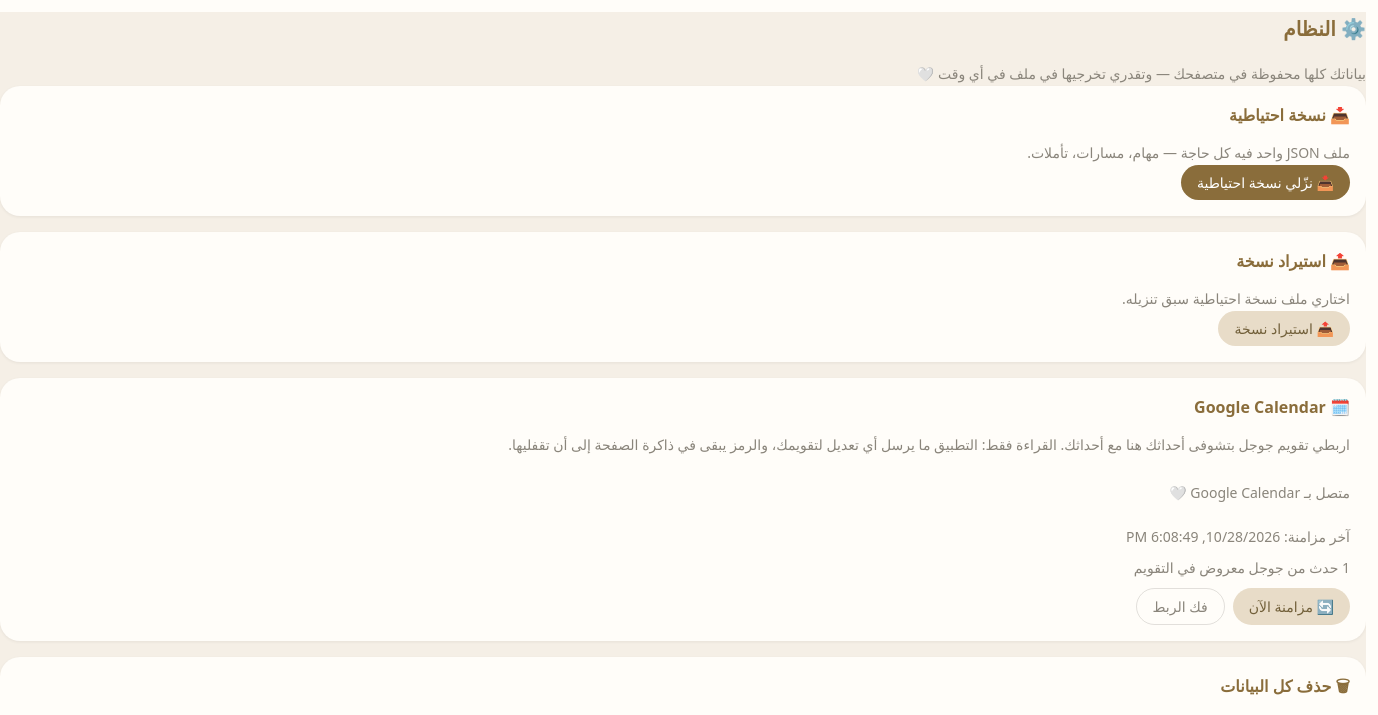
Test case: Settings — بطاقة Google Calendar › فك الربط ← تفريغ الكاش والعودة لزر الربط
Click the button "فك الربط".
click(1180, 607)  # box [1136, 588, 1225, 625]
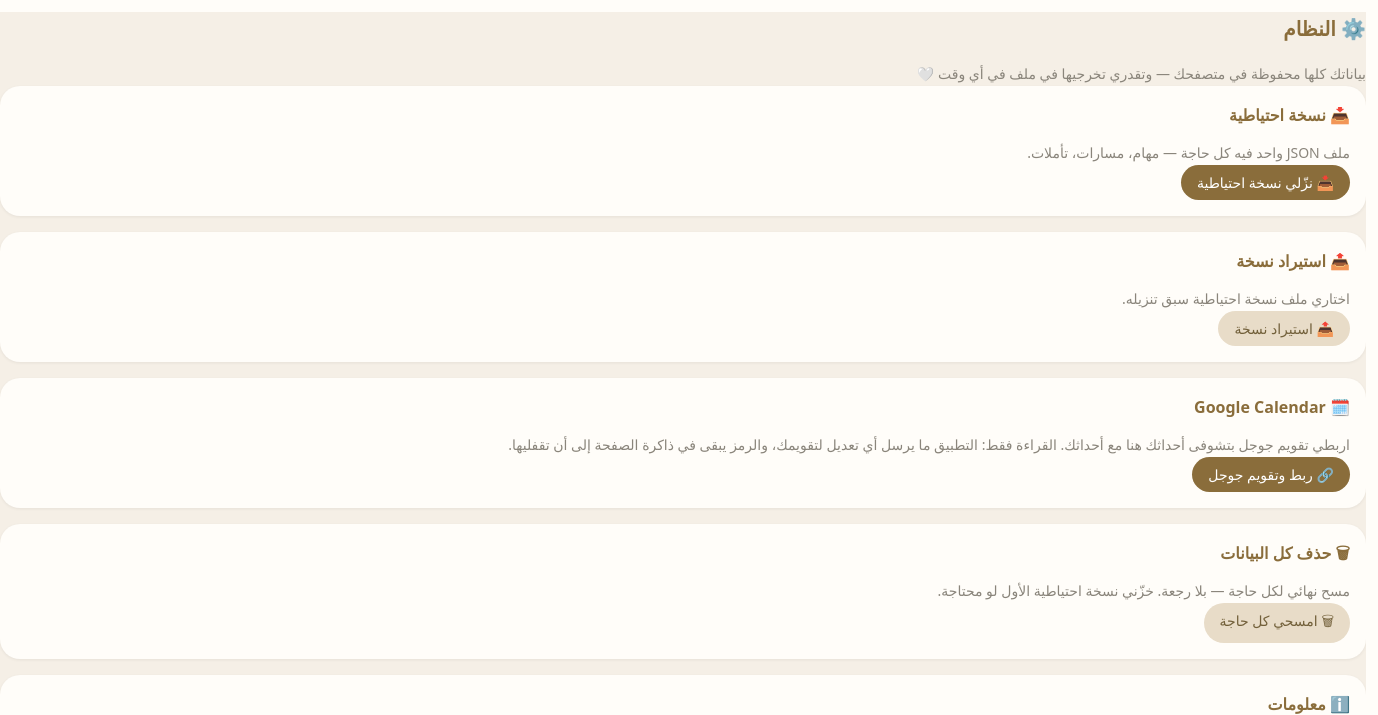
Check: the button "🔗 ربط وتقويم جوجل" is shown, box [1192, 457, 1350, 492]
